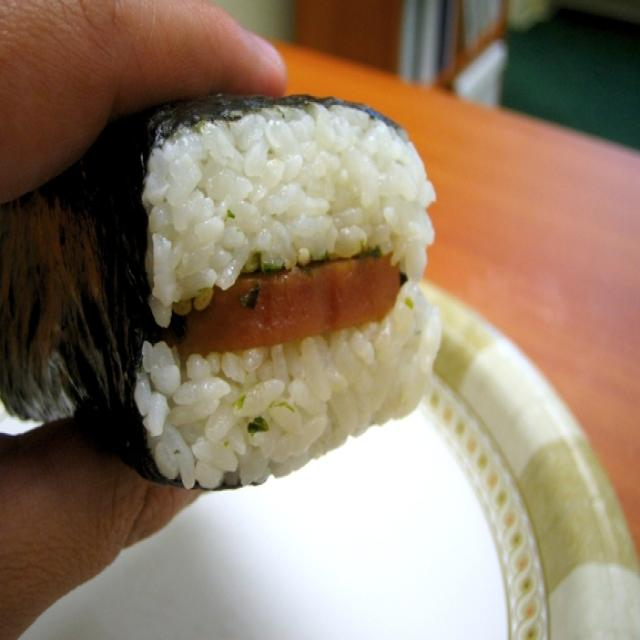寿司卷物: (11, 54, 449, 508)
